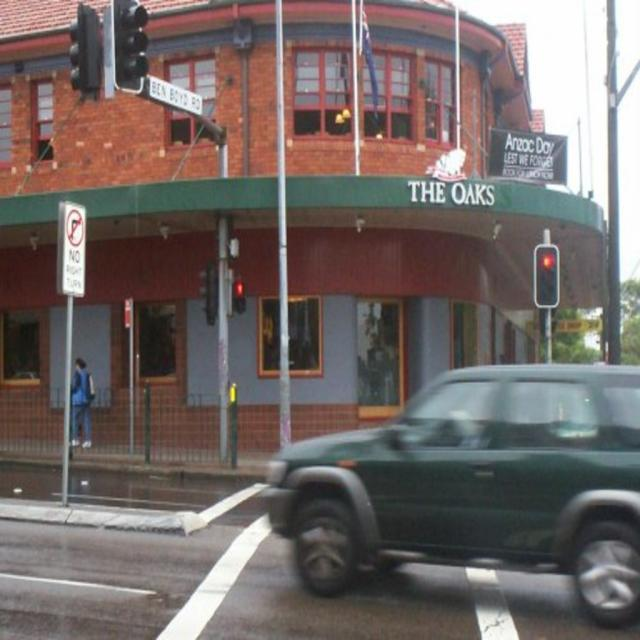off traffic light: (67, 1, 105, 95)
road_sign: (66, 206, 87, 250)
traffic light: (112, 0, 152, 91), (533, 243, 561, 309), (223, 276, 253, 316)
